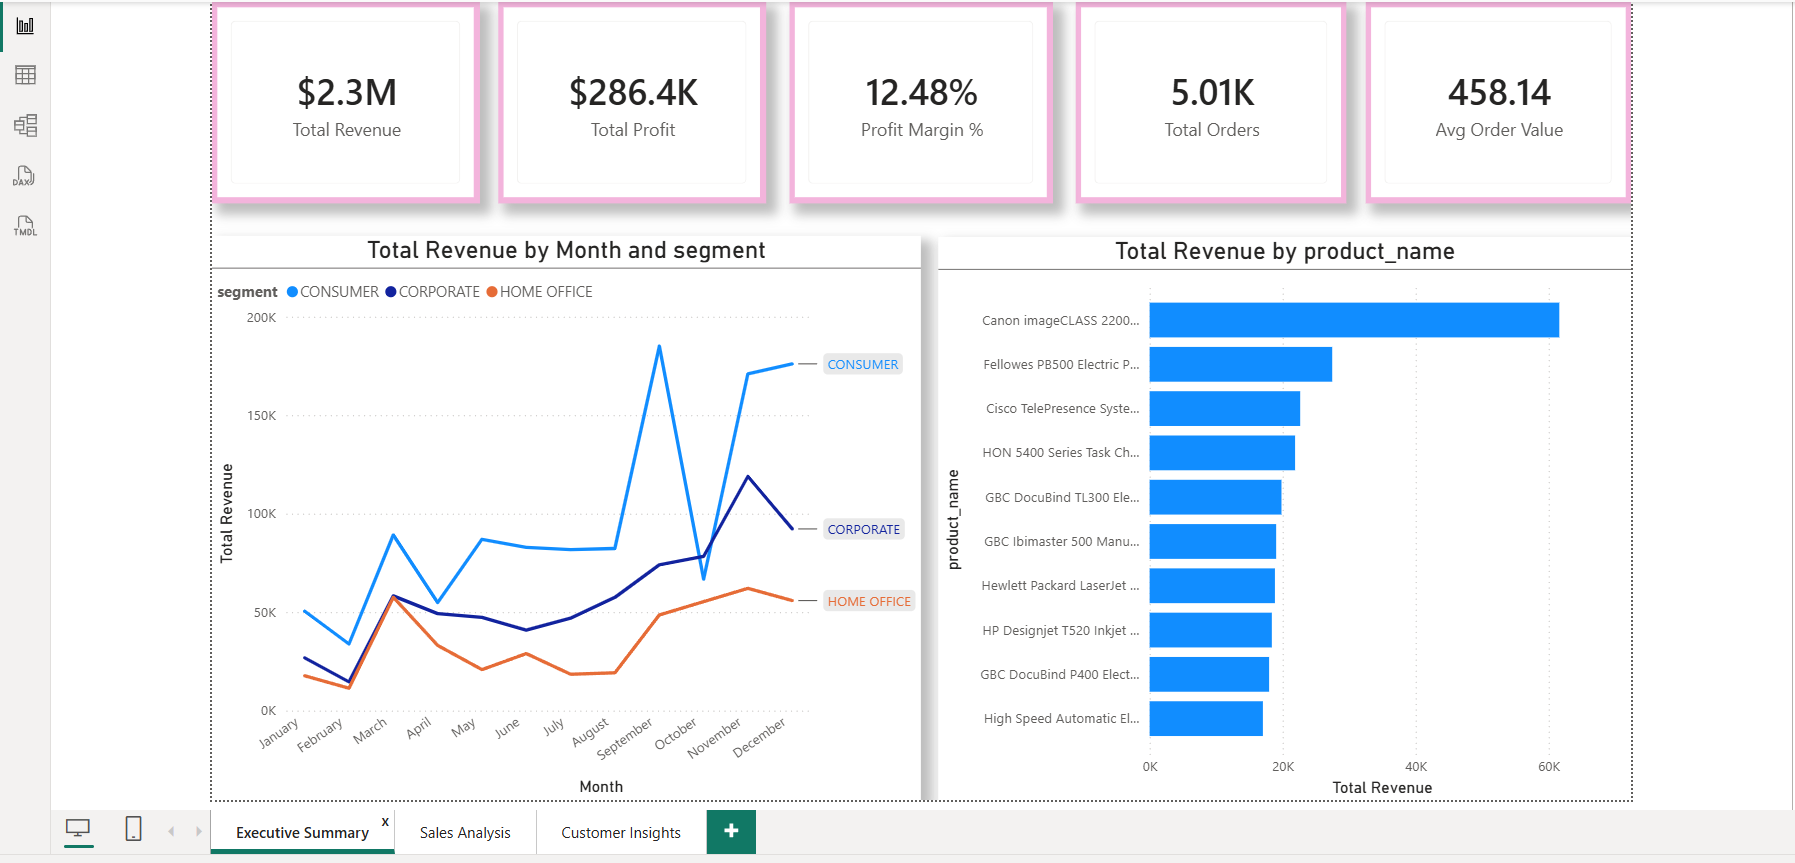

What the dashboard file says about the page in this screenshot:
{"tool":"powerbi","page":{"name":"Executive Summary","canvas":[1280,720],"ordinal":0},"visuals":[{"type":"cardVisual","fields":{"Data":["clean_orders.Total Revenue"]},"box":[0,0,241.9,181.4],"z":0},{"type":"cardVisual","fields":{"Data":["clean_orders.Total Profit"]},"box":[258.1,0,241.9,181.4],"z":1000},{"type":"cardVisual","fields":{"Data":["clean_orders.Total Orders"]},"box":[779.1,0,244.2,181.4],"z":2000},{"type":"cardVisual","fields":{"Data":["clean_orders.Profit Margin %"]},"box":[520.9,0,237.2,181.4],"z":3000},{"type":"cardVisual","fields":{"Data":["clean_orders.Avg Order Value"]},"box":[1040.7,0,239.5,181.4],"z":4000},{"type":"lineChart","fields":{"Category":["clean_orders.order_date.Variation.Date Hierarchy.Month"],"Y":["clean_orders.Total Revenue"],"Series":["clean_orders.segment"]},"box":[0,210.5,639.5,509.3],"z":5000},{"type":"clusteredBarChart","fields":{"Category":["clean_orders.product_name"],"Y":["clean_orders.Total Revenue"]},"box":[654.7,211.6,625.6,508.1],"z":6000}]}

Visuals, with their boxes on the page's 1280x720 design canvas (x1, y1, x2, y2). These are canvas units, not pixel positions in the 1795x863 screenshot, which may show the page scaled, cropped or inside an application window:
cardVisual - clean_orders.Total Revenue: bbox=[0, 0, 242, 181]
cardVisual - clean_orders.Total Profit: bbox=[258, 0, 500, 181]
cardVisual - clean_orders.Total Orders: bbox=[779, 0, 1023, 181]
cardVisual - clean_orders.Profit Margin %: bbox=[521, 0, 758, 181]
cardVisual - clean_orders.Avg Order Value: bbox=[1041, 0, 1280, 181]
lineChart - clean_orders.order_date.Variation.Date Hierarchy.Month x clean_orders.Total Revenue: bbox=[0, 210, 640, 720]
clusteredBarChart - clean_orders.product_name x clean_orders.Total Revenue: bbox=[655, 212, 1280, 720]
